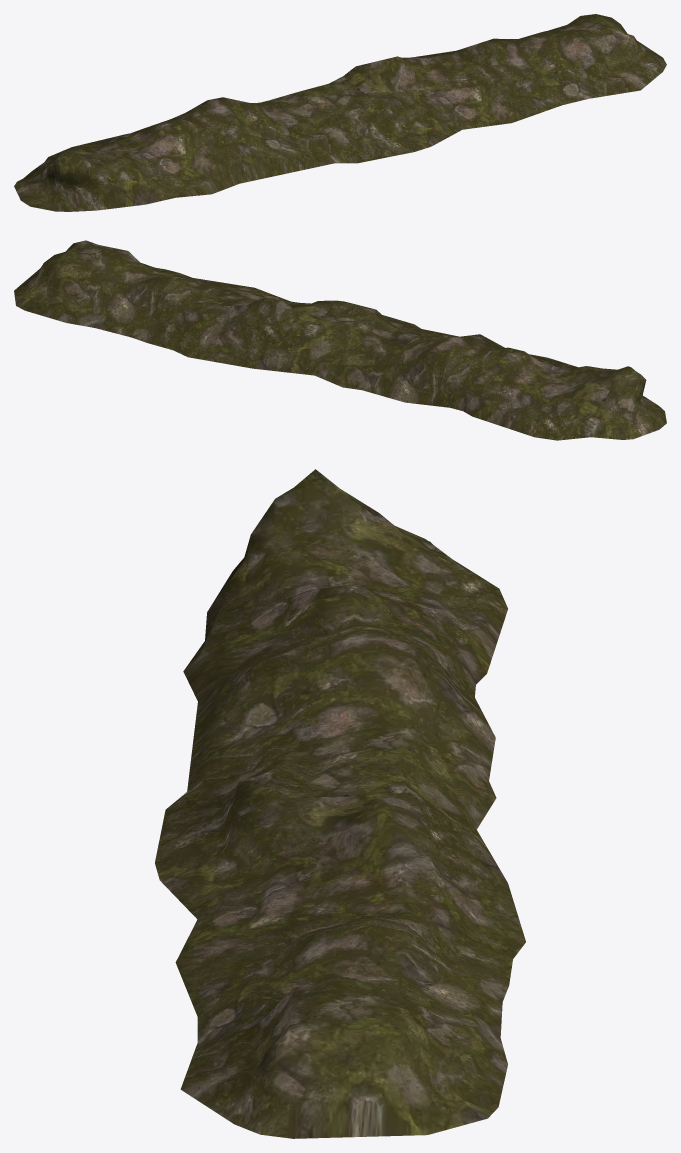
Rendered from jungle_ruins_stone_pile_c.glb.
3 renders of one model, top to bottom at view 1: azimuth 30°, elevation 25°; view 2: azimuth 150°, elevation 25°; view 3: azimuth 270°, elevation 25°, orthographic. The views are drawn at different scales.
Parts seen in each view (by area): view 1: jungle_ruins_stone_pile_c; view 2: jungle_ruins_stone_pile_c; view 3: jungle_ruins_stone_pile_c.
Part boxes in pixels (x1,y1,x2,y2): jungle_ruins_stone_pile_c: (14, 14, 666, 211); jungle_ruins_stone_pile_c: (14, 240, 666, 440); jungle_ruins_stone_pile_c: (155, 469, 525, 1138).
Size of the model in its own units: 6.16 by 0.415 by 1.58.
Materials: 1 (1 with a texture image).
